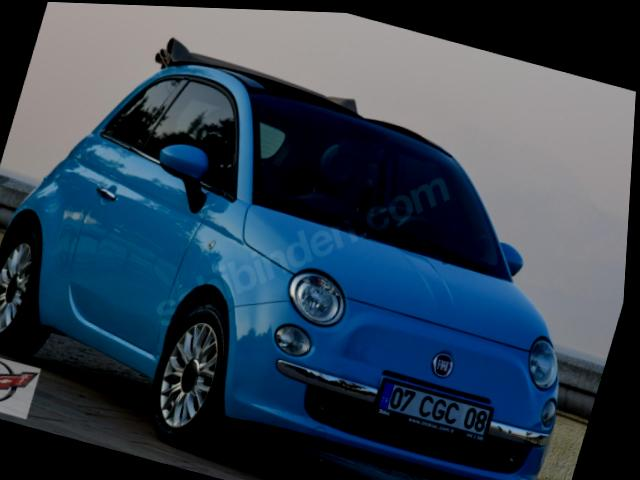plaka: (375, 380, 491, 440)
